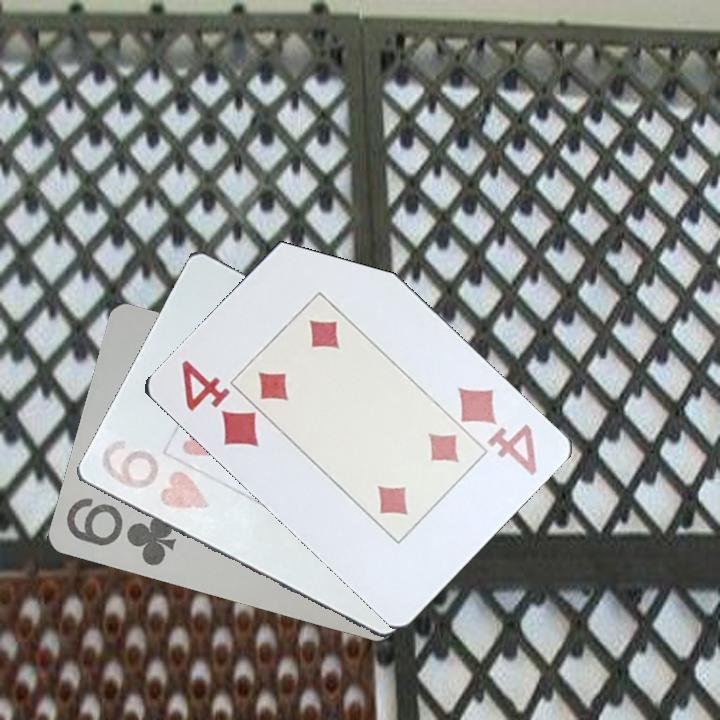4d: (452, 383, 539, 479), (177, 356, 262, 450)
6c: (62, 494, 179, 569)
6h: (93, 433, 212, 518)
